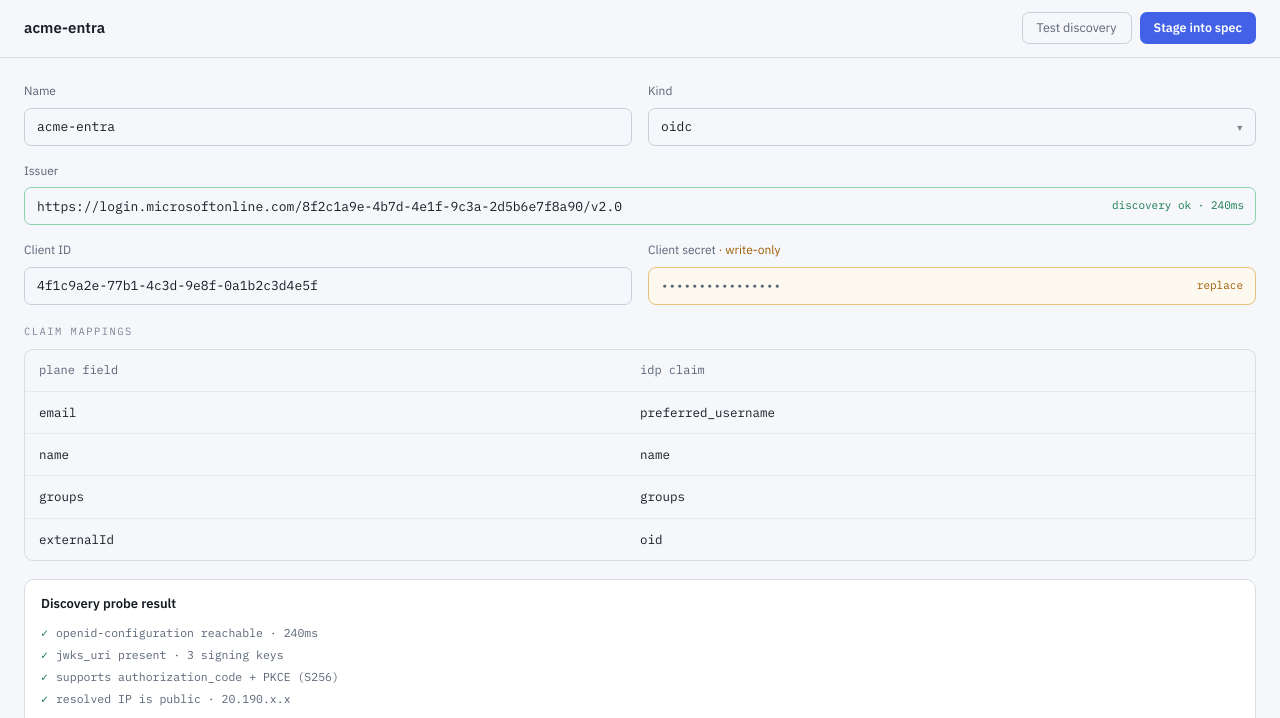
Test case: ConnectionForm › renders the frame's fields and never a secret value; replace reveals an empty password input
Expected: the heading "acme-entra" is shown, x1=24 y1=16 x2=105 y2=39
Expected: the field labelled "Name" holds "acme-entra", x1=24 y1=108 x2=632 y2=146
Click the button "replace" at (1220, 286), box x1=1197 y1=277 x2=1243 y2=294
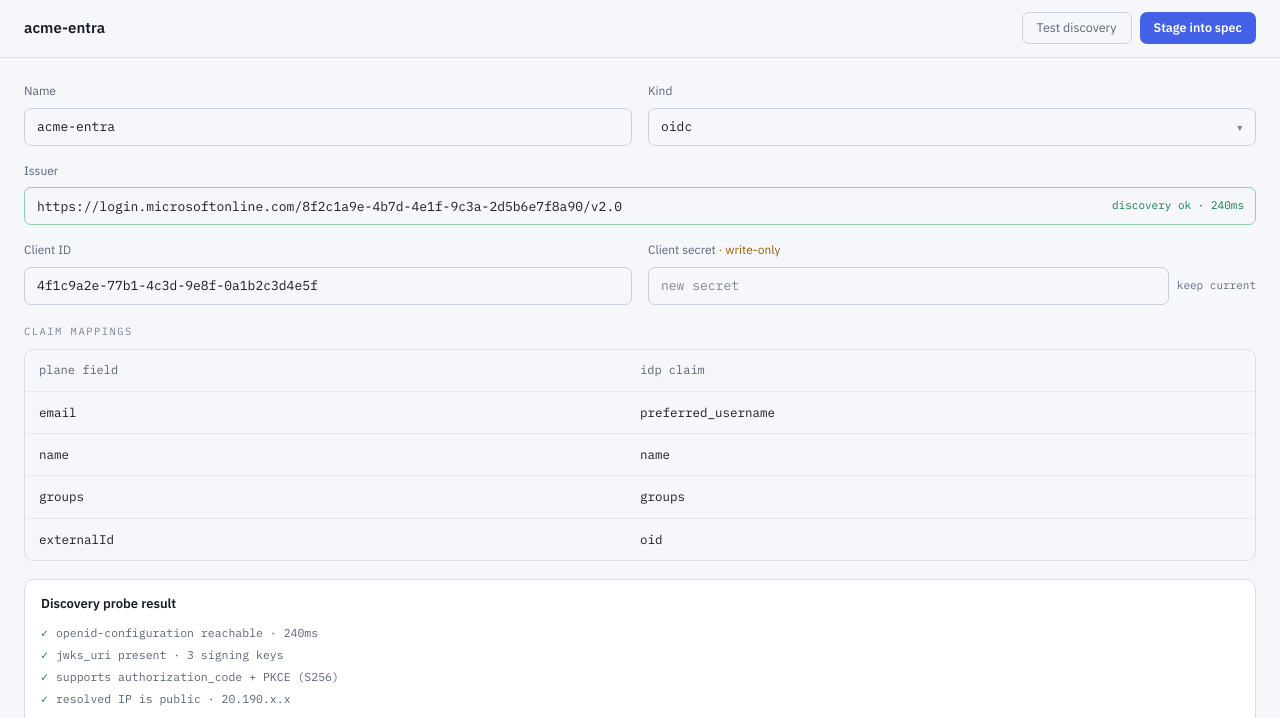
Expected: the password field labelled "Client secret · write-only" is empty, x1=648 y1=267 x2=1169 y2=305
Click the button "keep current" at (1216, 286), box x1=1177 y1=277 x2=1256 y2=294
(page scrolled)
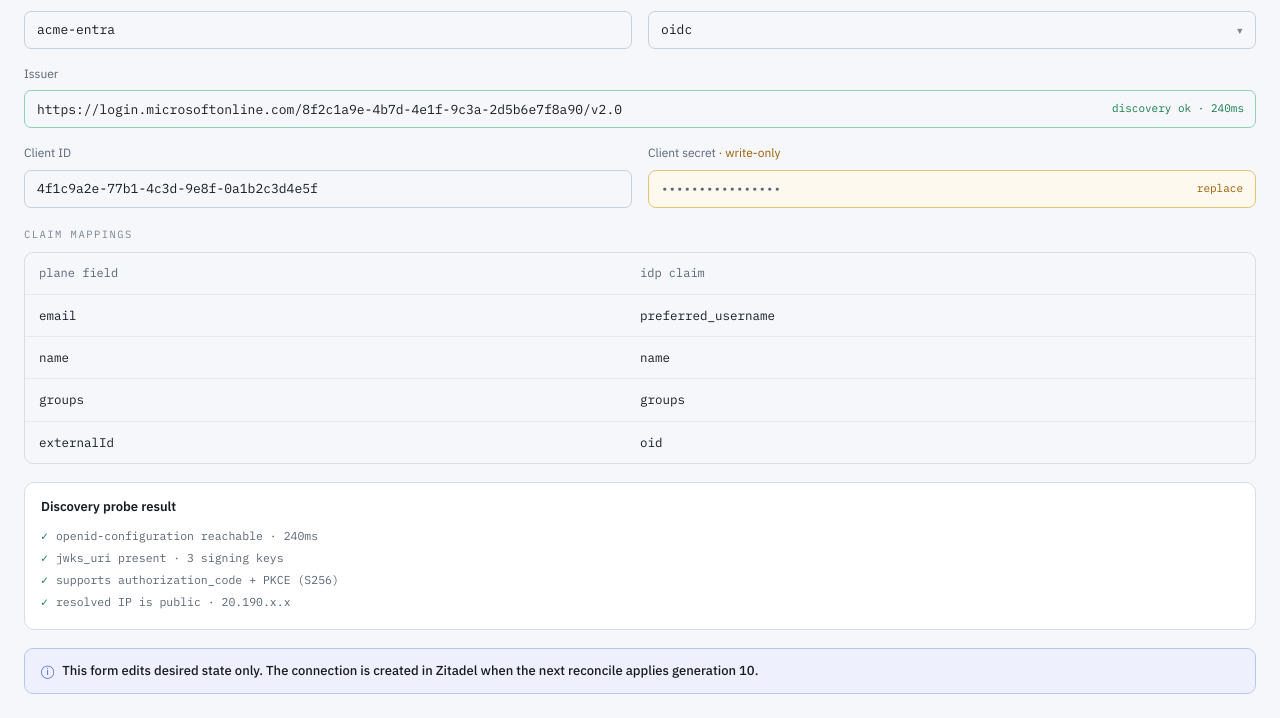
Expected: the number of rows is 5, x1=25 y1=253 x2=1255 y2=295; x1=25 y1=295 x2=1255 y2=337; x1=25 y1=337 x2=1255 y2=379; x1=25 y1=379 x2=1255 y2=422; x1=39 y1=434 x2=662 y2=450
Expected: the password field is gone
